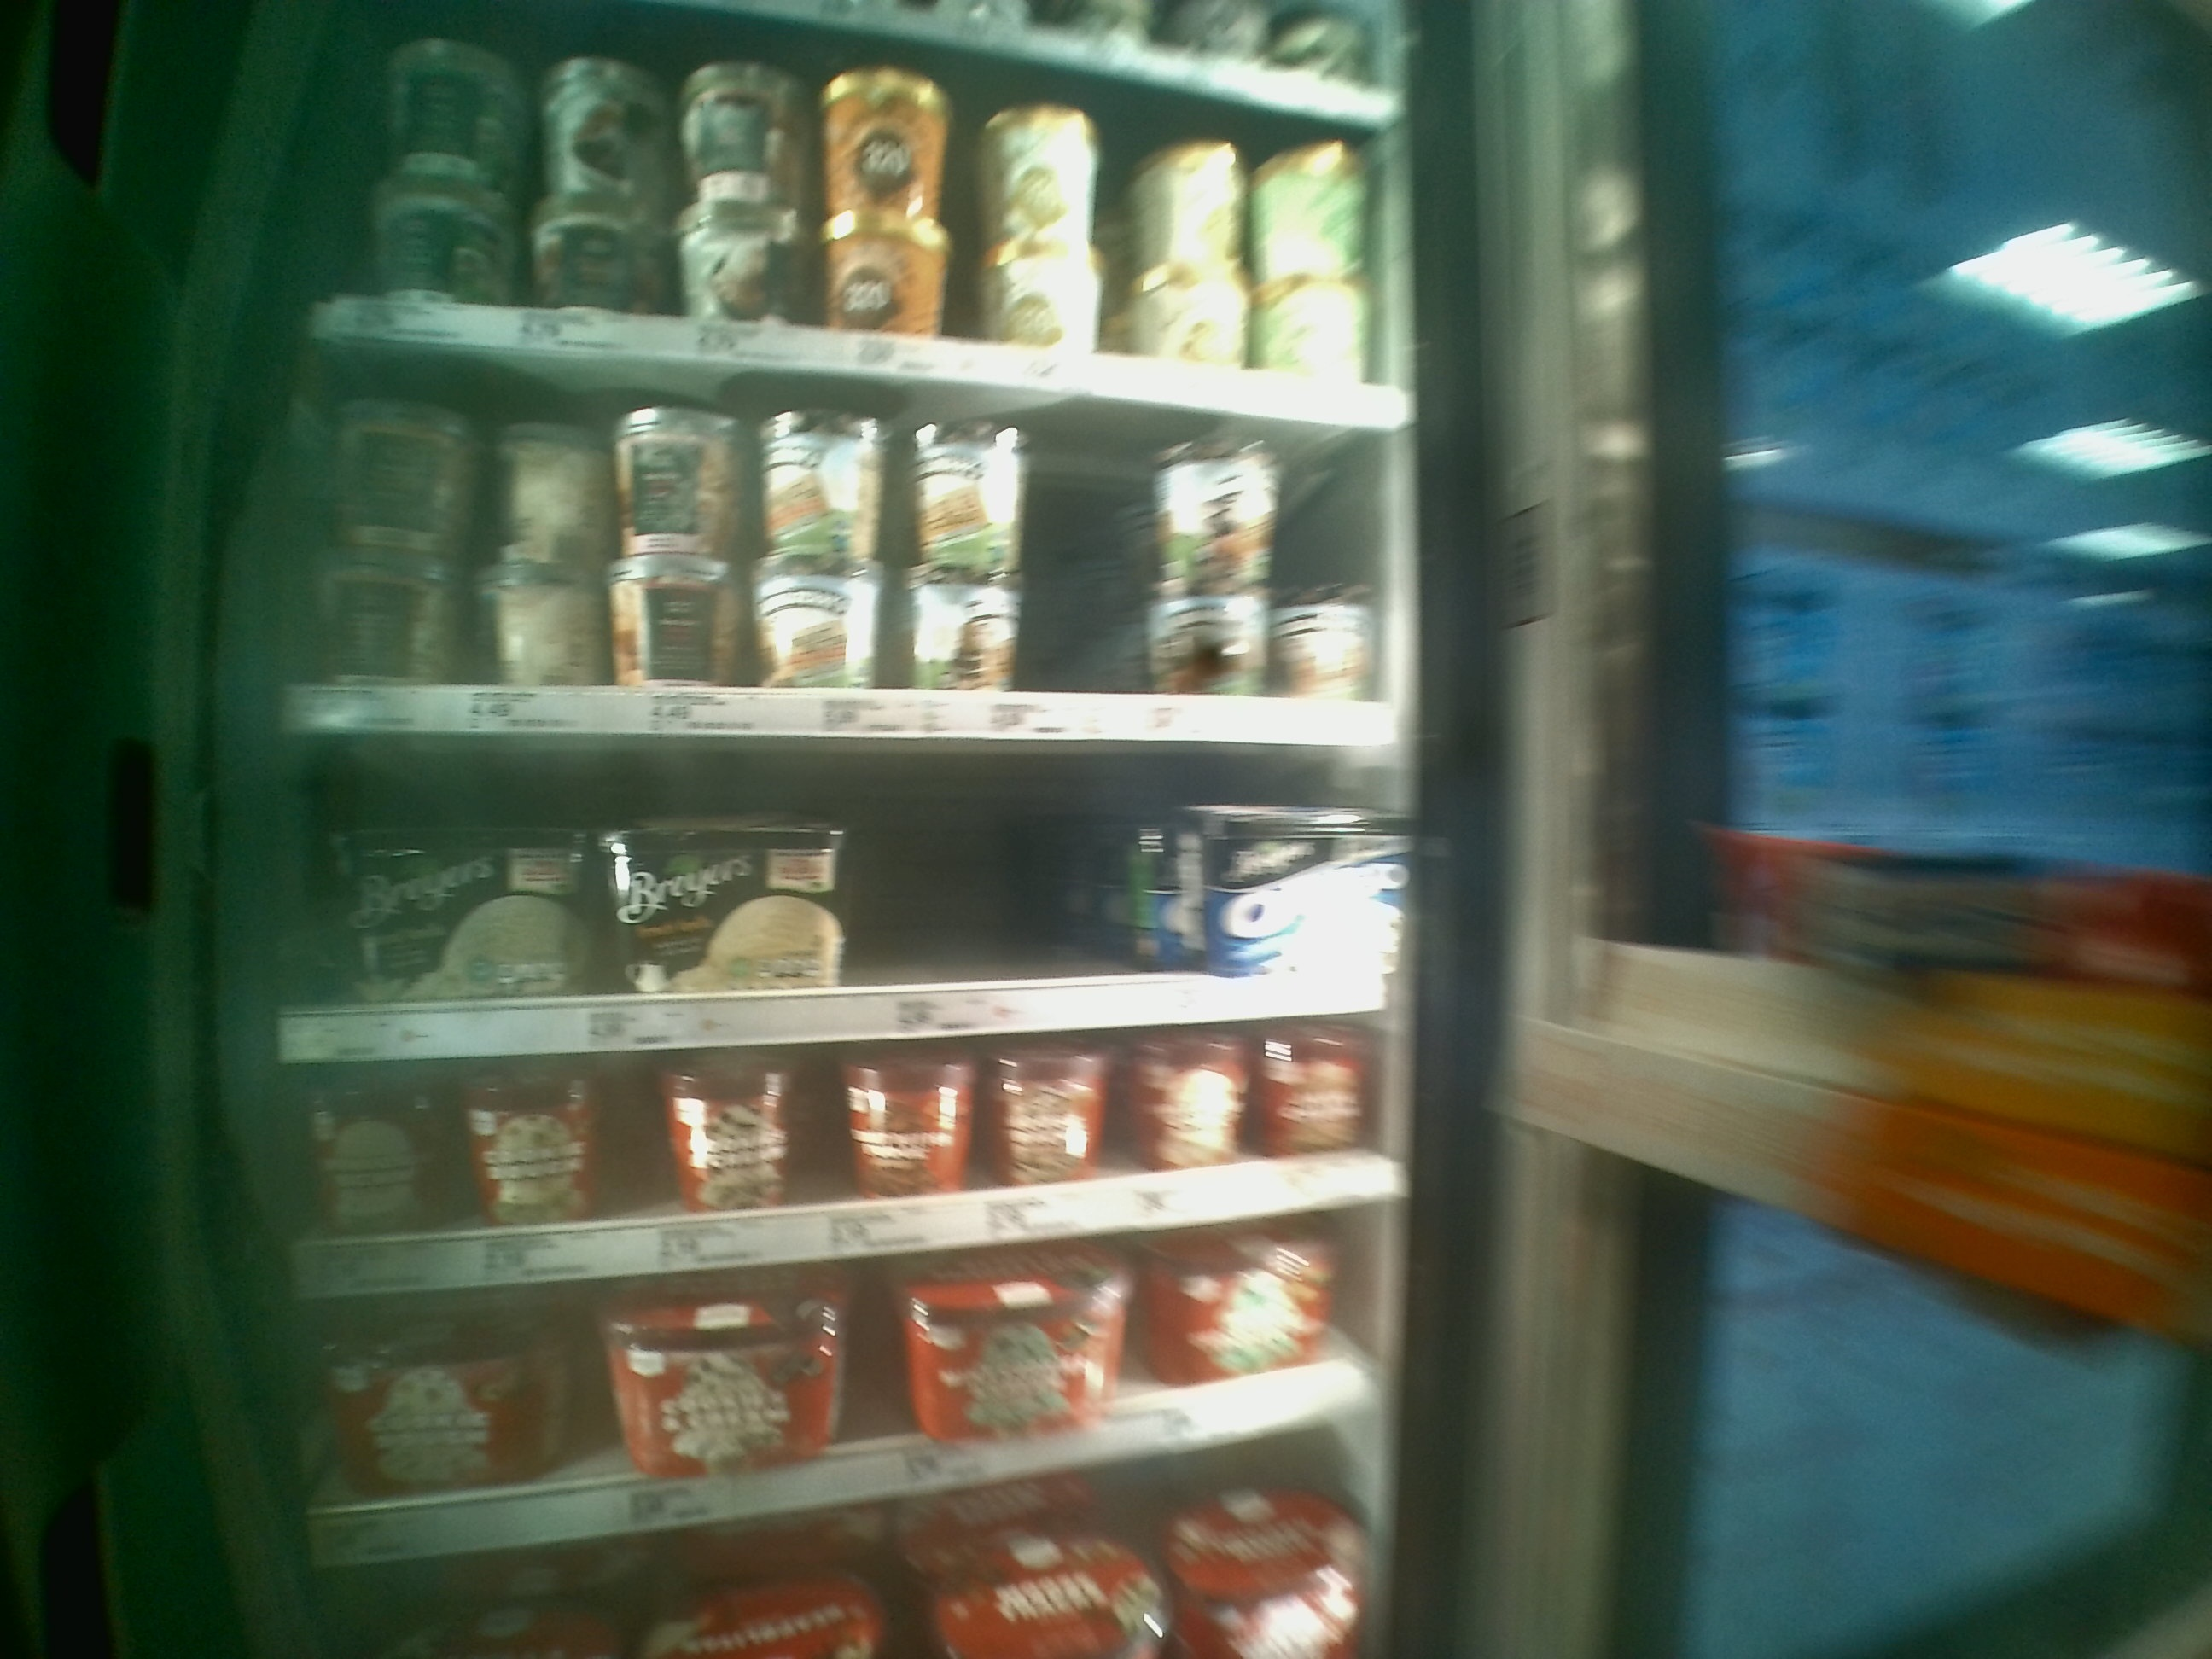shelf: (268, 328, 1411, 728), (263, 737, 1423, 1060), (263, 1019, 1435, 1298)
